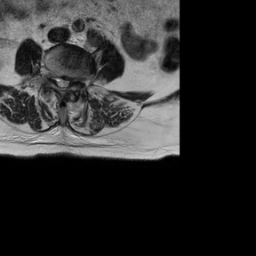CCS_severe_stenosis: (60, 73, 65, 95)
LFS_severe_stenosis: (72, 73, 77, 89)
LLS_severe_stenosis: (66, 74, 71, 91)
RFS_stenosis: (48, 69, 55, 83)
RLS_stenosis: (55, 71, 60, 90)
